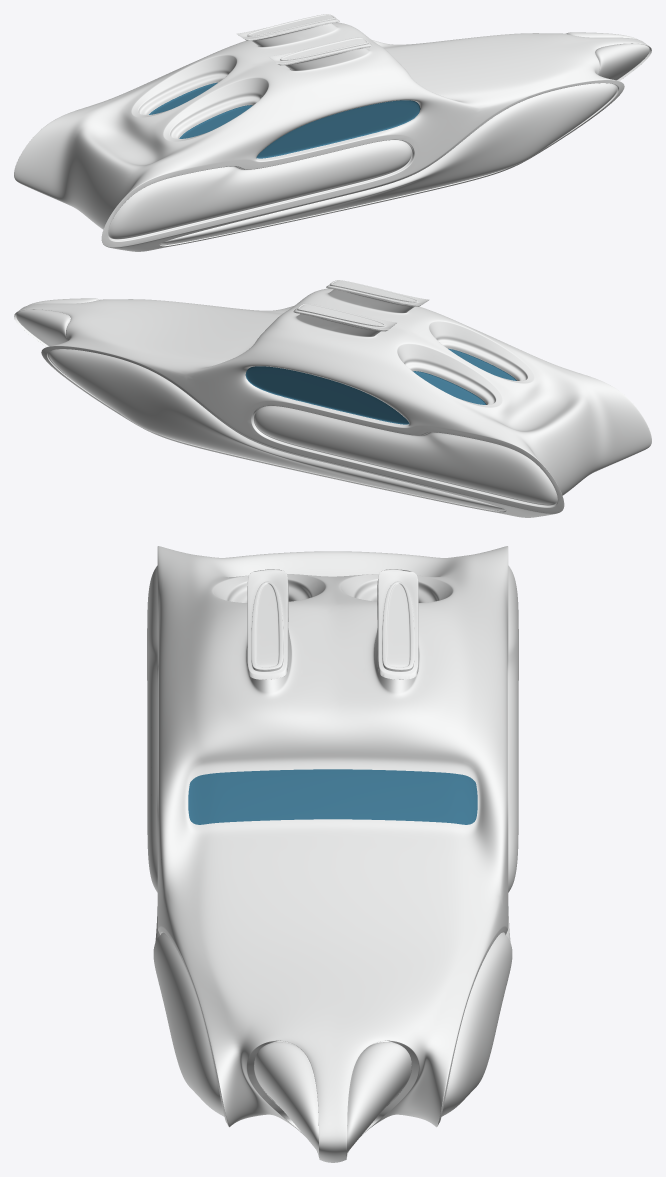
The model's file is futuristic-speedboat.glb.
3 views of the same model, one above another, from view 1: azimuth 30°, elevation 25°; view 2: azimuth 150°, elevation 25°; view 3: azimuth 270°, elevation 25° (orthographic). The views are drawn at different scales.
Parts seen in each view (by area): view 1: Futuristic Speedboat; view 2: Futuristic Speedboat; view 3: Futuristic Speedboat.
Part boxes in pixels (x1,y1,x2,y2): Futuristic Speedboat: (14,14,651,251); Futuristic Speedboat: (14,280,651,517); Futuristic Speedboat: (147,546,518,1162).
Bounding box in the file's own units: 9.38 × 2.42 × 2.56.
Materials: 2 (2 with a texture image).
